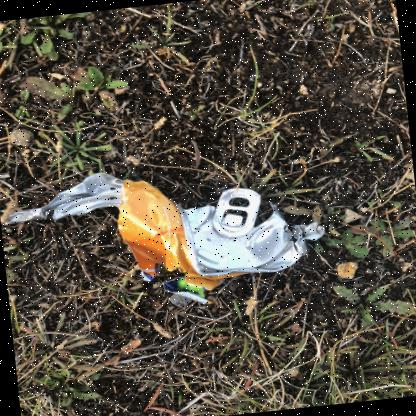Drink can: (4, 172, 325, 304)
Pop tab: (213, 188, 261, 236)
